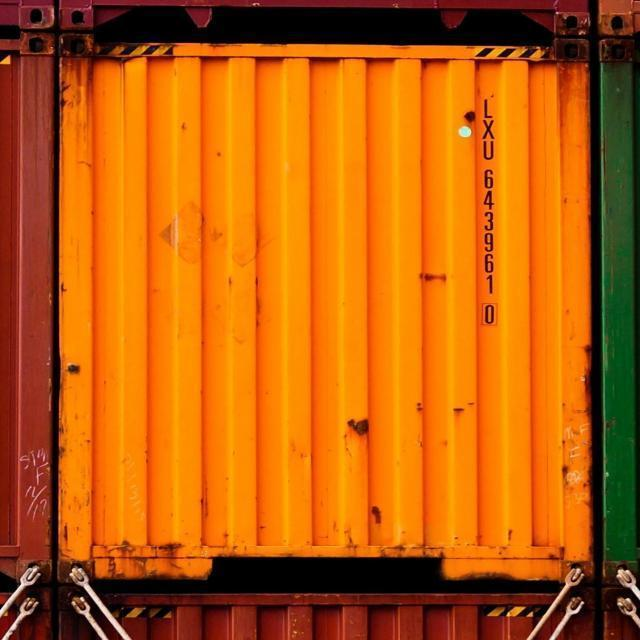container_number: (483, 95, 503, 332)
